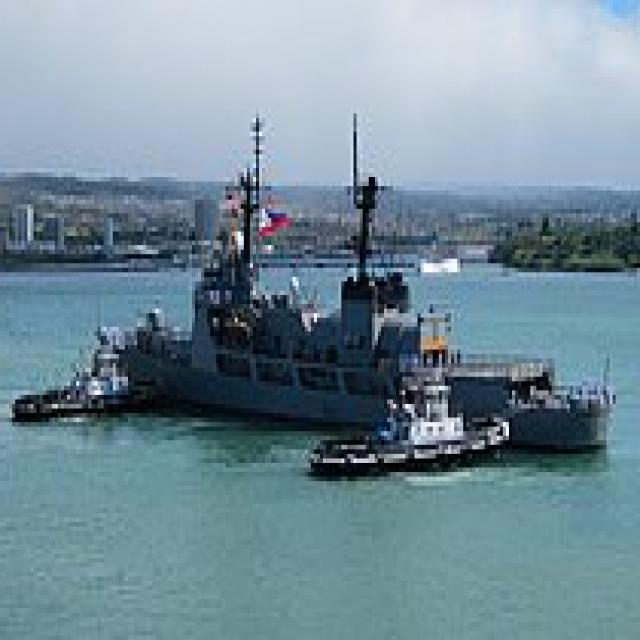Warship: (98, 100, 624, 449)
